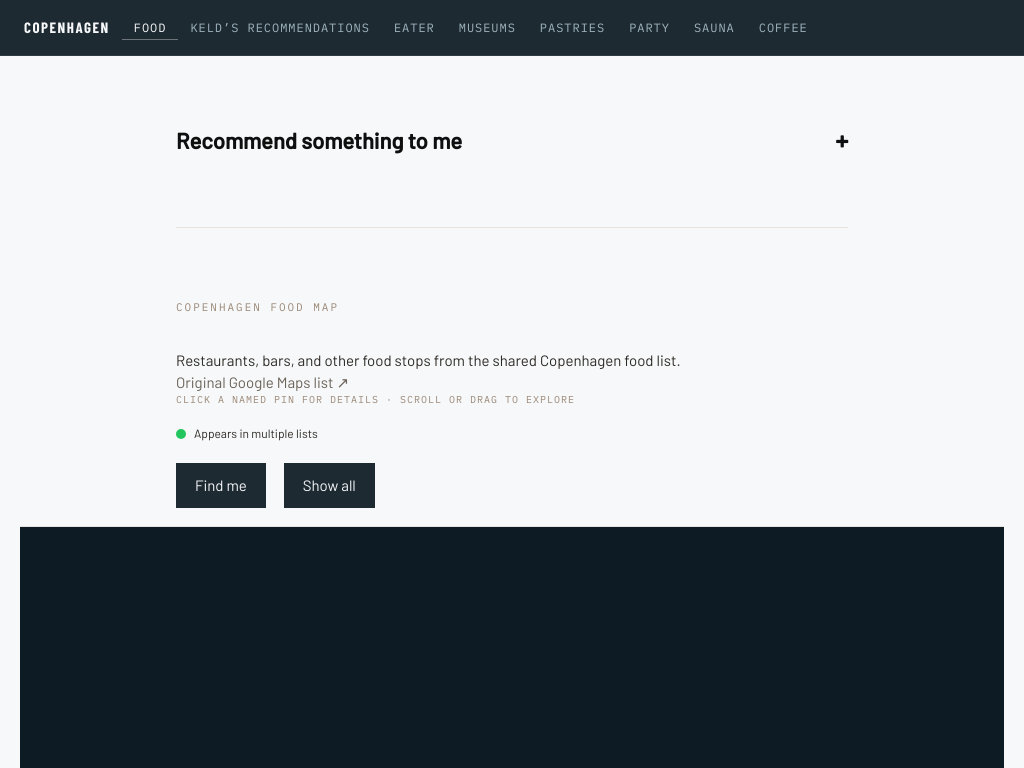
Test: outside-Copenhagen locations and denied permissions give actionable feedback
The width and height of the screenshot is (1024, 768).
Click the button "Find me" at (221, 485), box [176, 463, 266, 508]
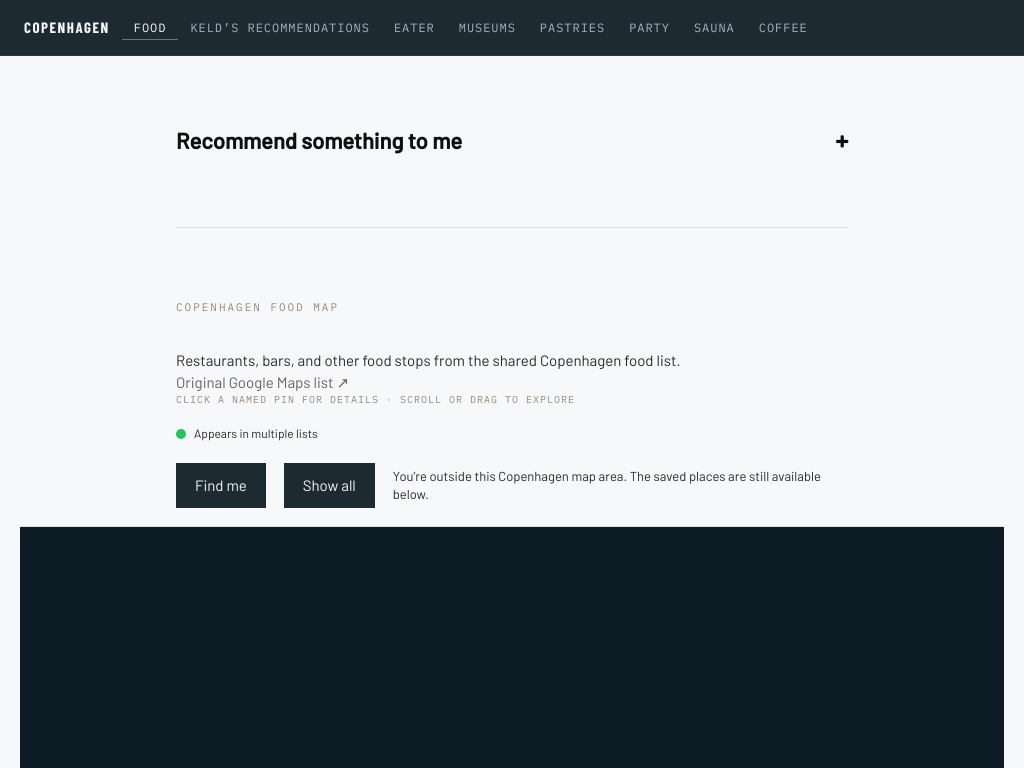
Expected: the message shows "outside this Copenhagen map area", [393, 468, 821, 502]
Click the button "Find me" at (221, 485), box [176, 463, 266, 508]
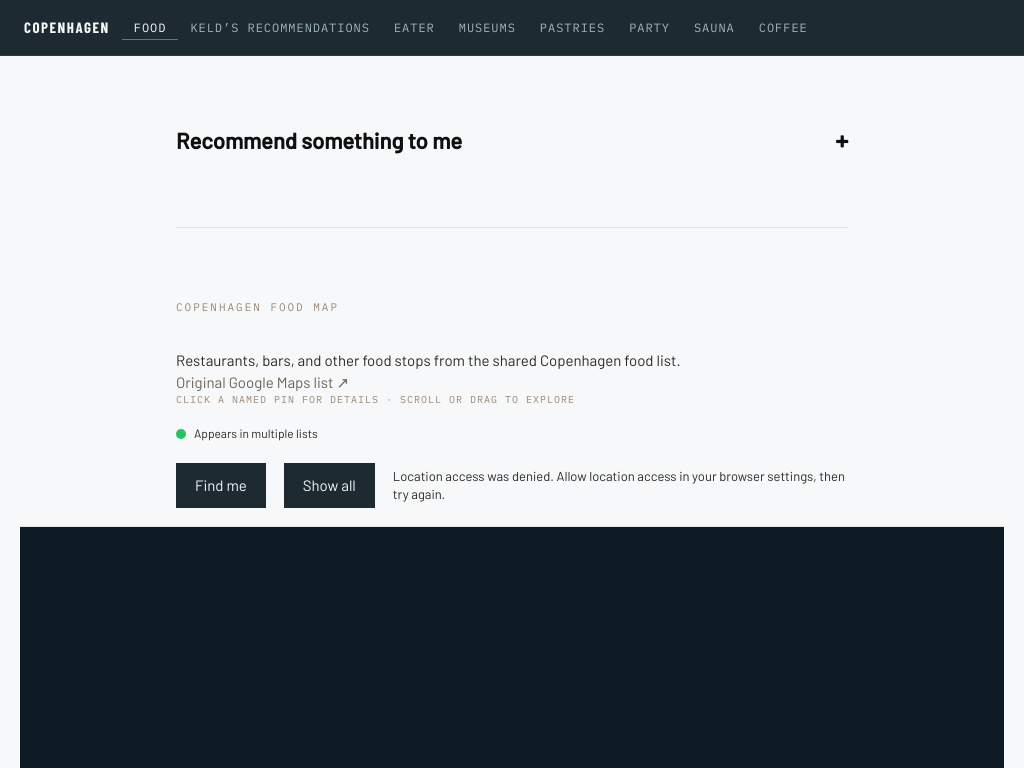
Expected: the message shows "Allow location access in your browser settings", [393, 468, 845, 502]
